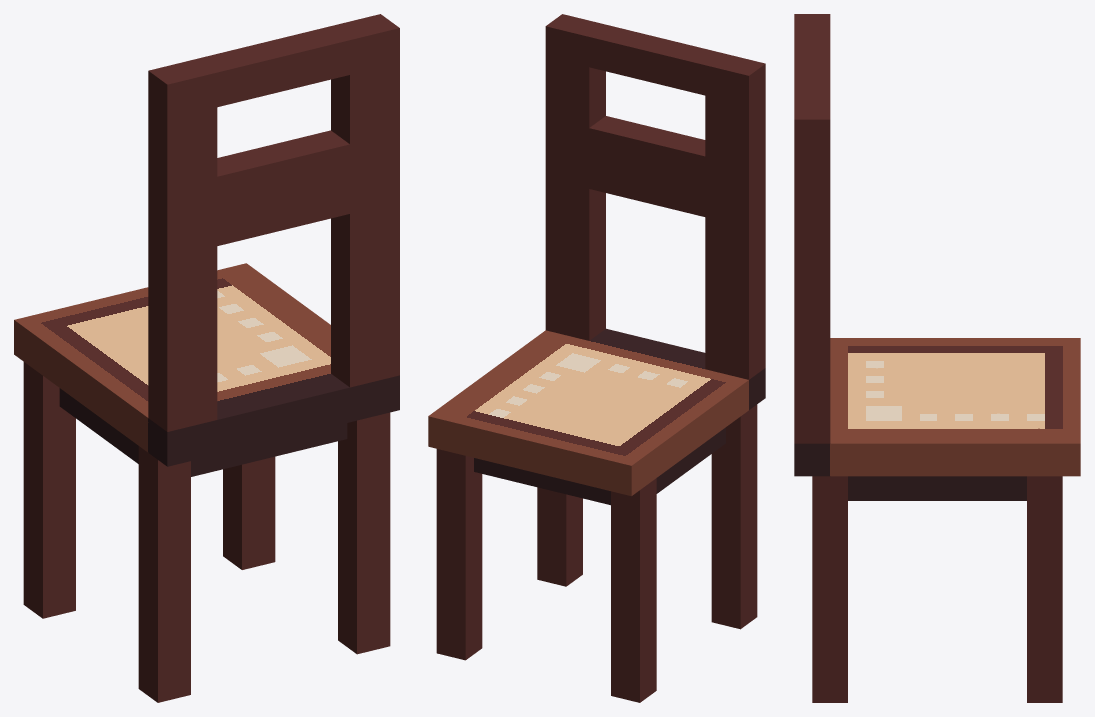
The model's file is Chair.fbx.
3 views of the same model, side by side, from view 1: azimuth 30°, elevation 25°; view 2: azimuth 150°, elevation 25°; view 3: azimuth 270°, elevation 25° (orthographic). The views are drawn at different scales.
Visible parts, largest first — view 1: cube_5, cube_7, cube_6, leg_1, leg, leg_3, cube_9, cube_8, leg_2, cube_1, cube_4; view 2: cube_5, cube_7, cube_6, leg_3, leg_2, leg_1, cube_9, cube_8, leg, cube, cube_4; view 3: cube_5, cube_6, leg, leg_2, cube_3, cube_8, cube_7.
Boxes of the visible parts, x1,y1,x2,y2 form: cube_5: [14, 263, 399, 466]; cube_7: [148, 58, 217, 431]; cube_6: [331, 14, 399, 387]; leg_1: [138, 446, 190, 702]; leg: [338, 412, 390, 654]; leg_3: [23, 362, 75, 618]; cube_9: [217, 130, 349, 245]; cube_8: [198, 26, 349, 107]; leg_2: [223, 456, 275, 569]; cube_1: [191, 423, 347, 476]; cube_4: [59, 388, 138, 463]; cube_5: [428, 328, 765, 496]; cube_7: [705, 53, 765, 379]; cube_6: [545, 14, 605, 340]; leg_3: [611, 478, 656, 702]; leg_2: [436, 449, 482, 660]; leg_1: [711, 404, 757, 629]; cube_9: [589, 116, 705, 216]; cube_8: [589, 24, 721, 95]; leg: [537, 487, 582, 586]; cube: [474, 458, 610, 505]; cube_4: [656, 427, 725, 493]; cube_5: [794, 338, 1080, 476]; cube_6: [794, 97, 830, 443]; leg: [812, 476, 847, 702]; leg_2: [1027, 476, 1062, 702]; cube_3: [848, 476, 1026, 500]; cube_8: [794, 36, 830, 96]; cube_7: [794, 14, 830, 36].
Size of the model in its own units: 87.5 by 225 by 100.
Materials: 1 (1 with a texture image).
